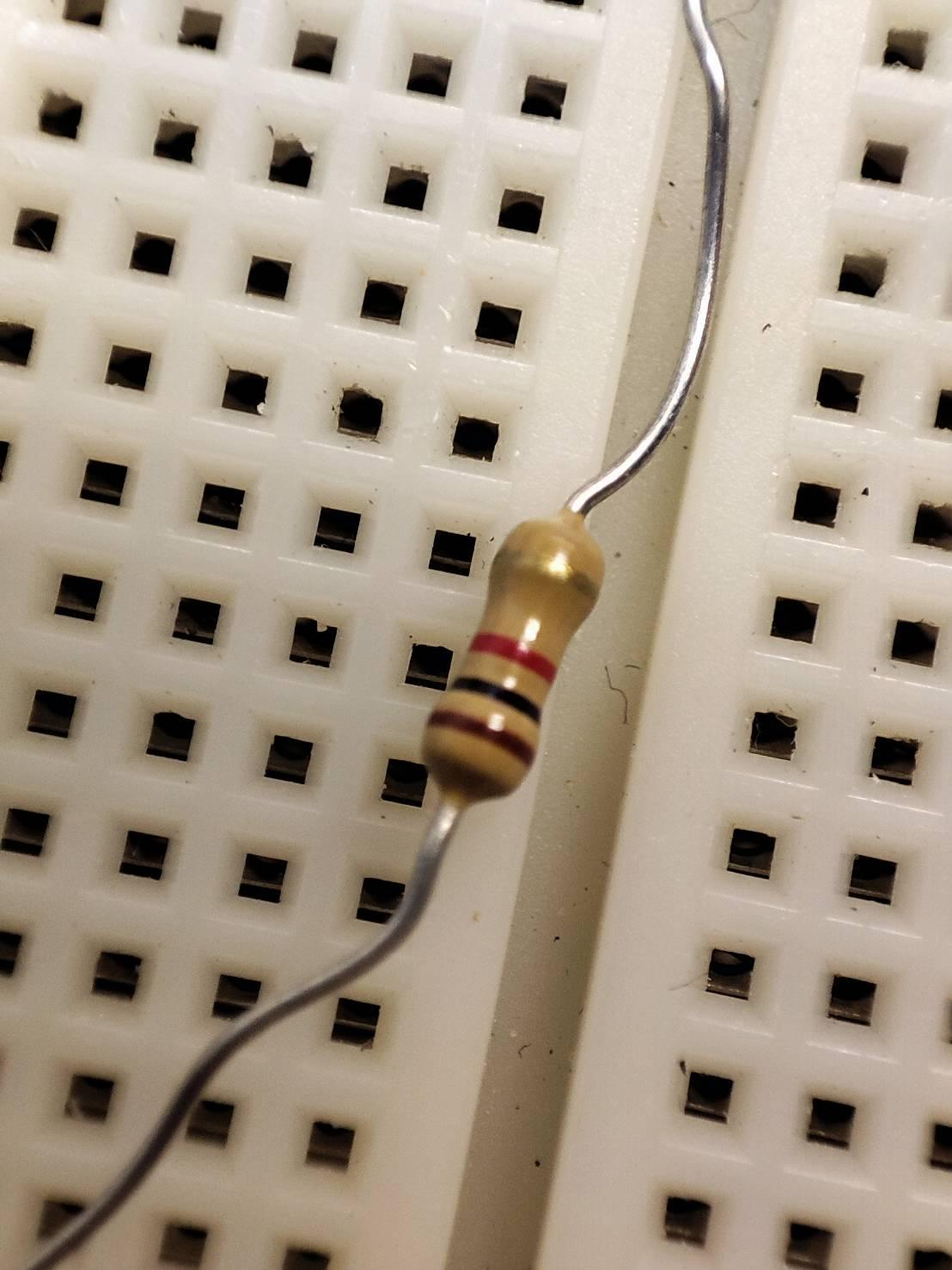resistor: (433, 516, 603, 799)
